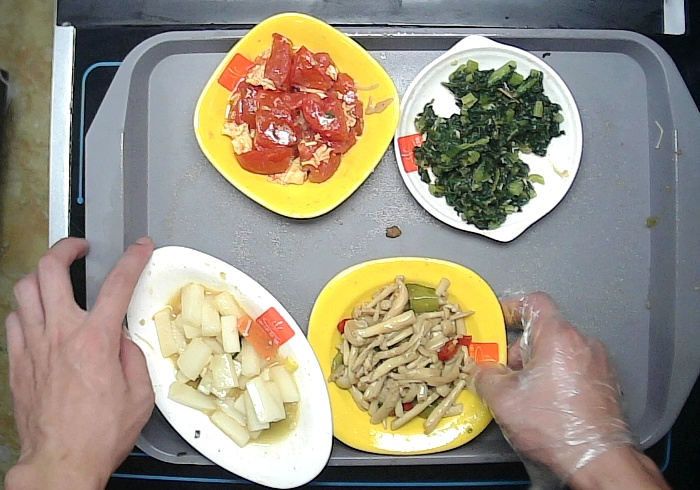SHKJ-Bao_Yu_Pan: (392, 32, 583, 242)
SHKJ-Huang_Se_Cai_Die: (192, 9, 402, 219)
SHKJ-Huang_Se_Si_Fang_Cai_Die: (306, 255, 508, 456)
SHKJ-Yu_Pan: (123, 243, 335, 490)
